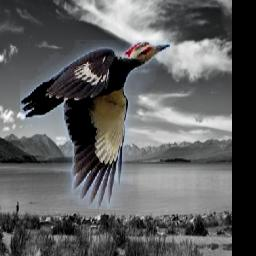Woodpecker: (20, 40, 170, 209)
